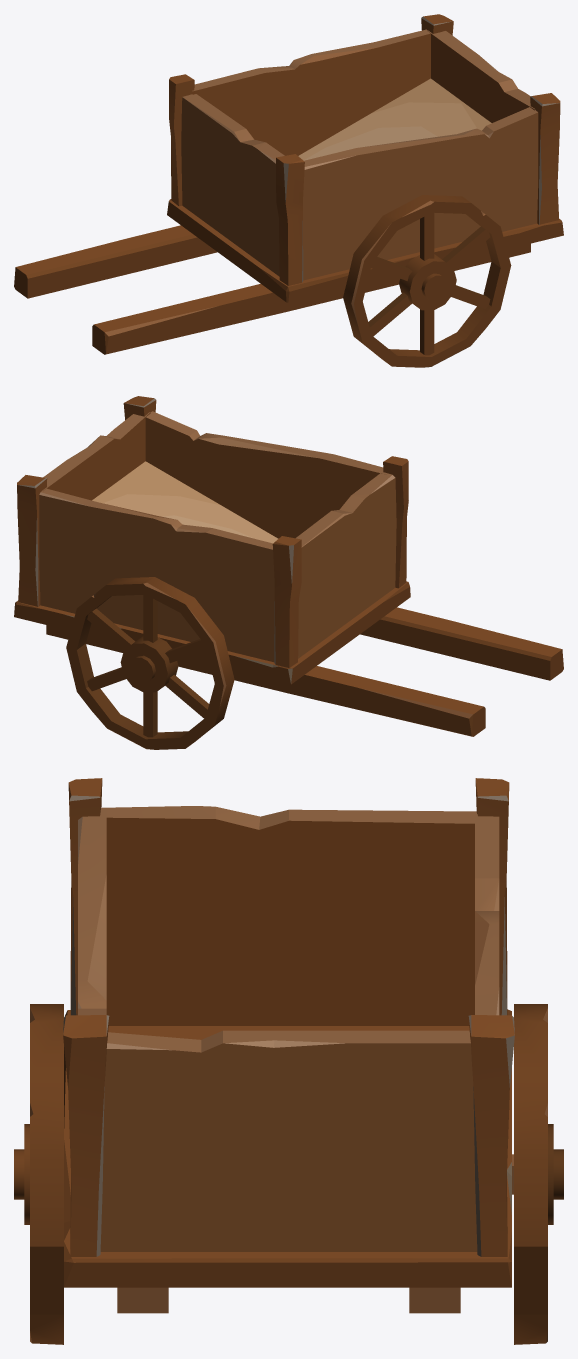
Rendered from BG_WoodCart01.fbx.
3 renders of one model, top to bottom at view 1: azimuth 30°, elevation 25°; view 2: azimuth 150°, elevation 25°; view 3: azimuth 270°, elevation 25°, orthographic. The views are drawn at different scales.
Visible parts, largest first — view 1: BG_WoodCart01; view 2: BG_WoodCart01; view 3: BG_WoodCart01.
Boxes of the visible parts, bbox=[...] form: BG_WoodCart01: bbox=[14, 14, 563, 367]; BG_WoodCart01: bbox=[14, 396, 563, 749]; BG_WoodCart01: bbox=[14, 778, 563, 1344].
Bounding box in the file's own units: 27.88 × 13.79 × 16.08.
Materials: 1 (1 with a texture image).
